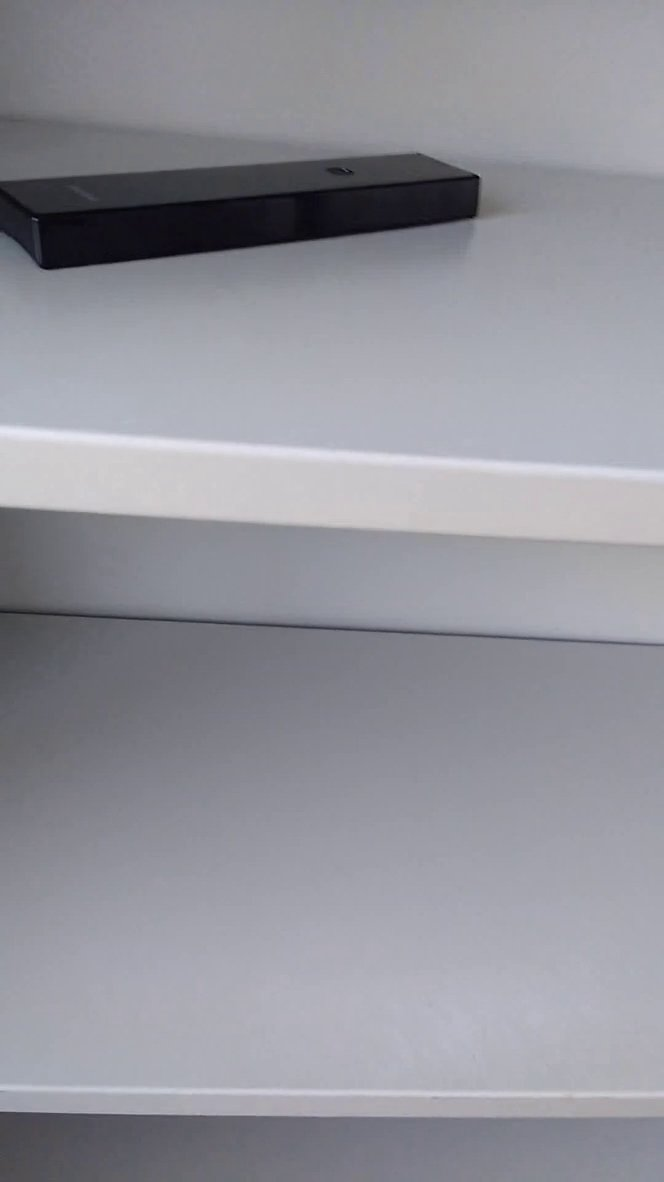remote: (1, 129, 494, 278)
